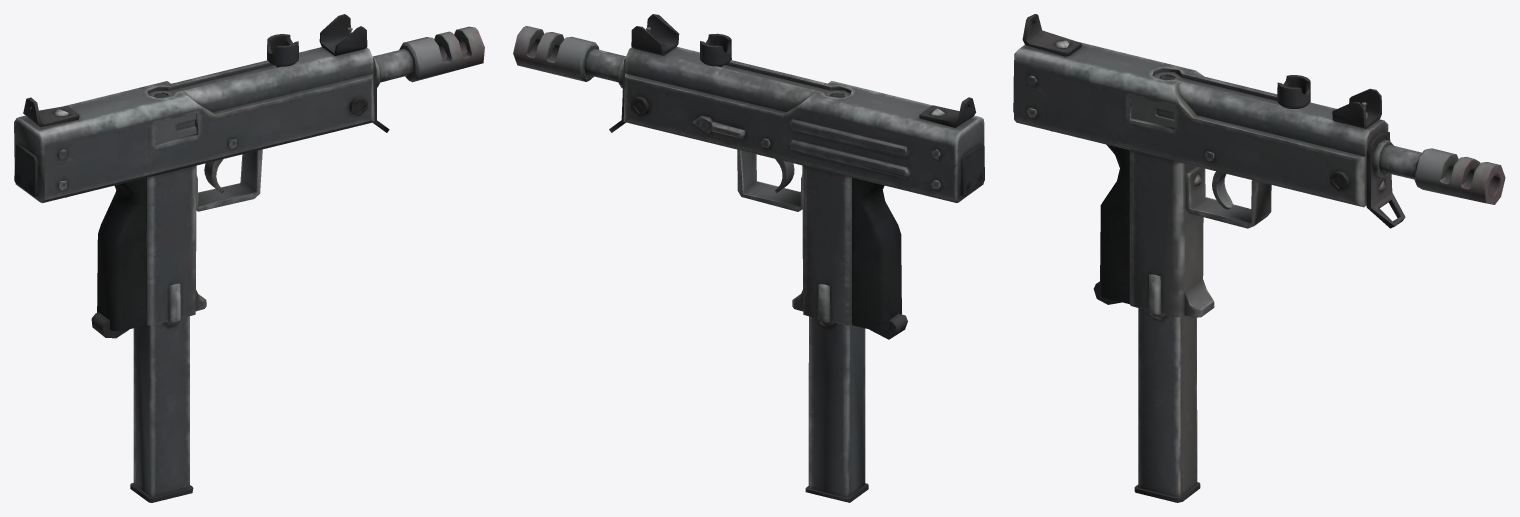
The model's file is dualsmg_lod1.glb.
3 renders of one model, left to right at view 1: azimuth 30°, elevation 25°; view 2: azimuth 150°, elevation 25°; view 3: azimuth 330°, elevation 25°, orthographic. The views are drawn at different scales.
Visible parts, largest first — view 1: base, mag, bolt, base_2; view 2: base, mag, bolt; view 3: base, mag, bolt, base_2.
Boxes of the visible parts, x1=… form: base: x1=14, y1=14, x2=484, y2=338; mag: x1=130, y1=316, x2=193, y2=502; bolt: x1=267, y1=34, x2=298, y2=67; base_2: x1=156, y1=113, x2=196, y2=144; base: x1=513, y1=14, x2=984, y2=339; mag: x1=805, y1=316, x2=868, y2=502; bolt: x1=700, y1=33, x2=731, y2=67; base: x1=1013, y1=14, x2=1505, y2=317; mag: x1=1134, y1=308, x2=1200, y2=502; bolt: x1=1277, y1=75, x2=1310, y2=108; base_2: x1=1131, y1=96, x2=1174, y2=127.
Size of the model in its own units: 0.3621 by 0.3252 by 0.0491.
1 material, 1 textured.
